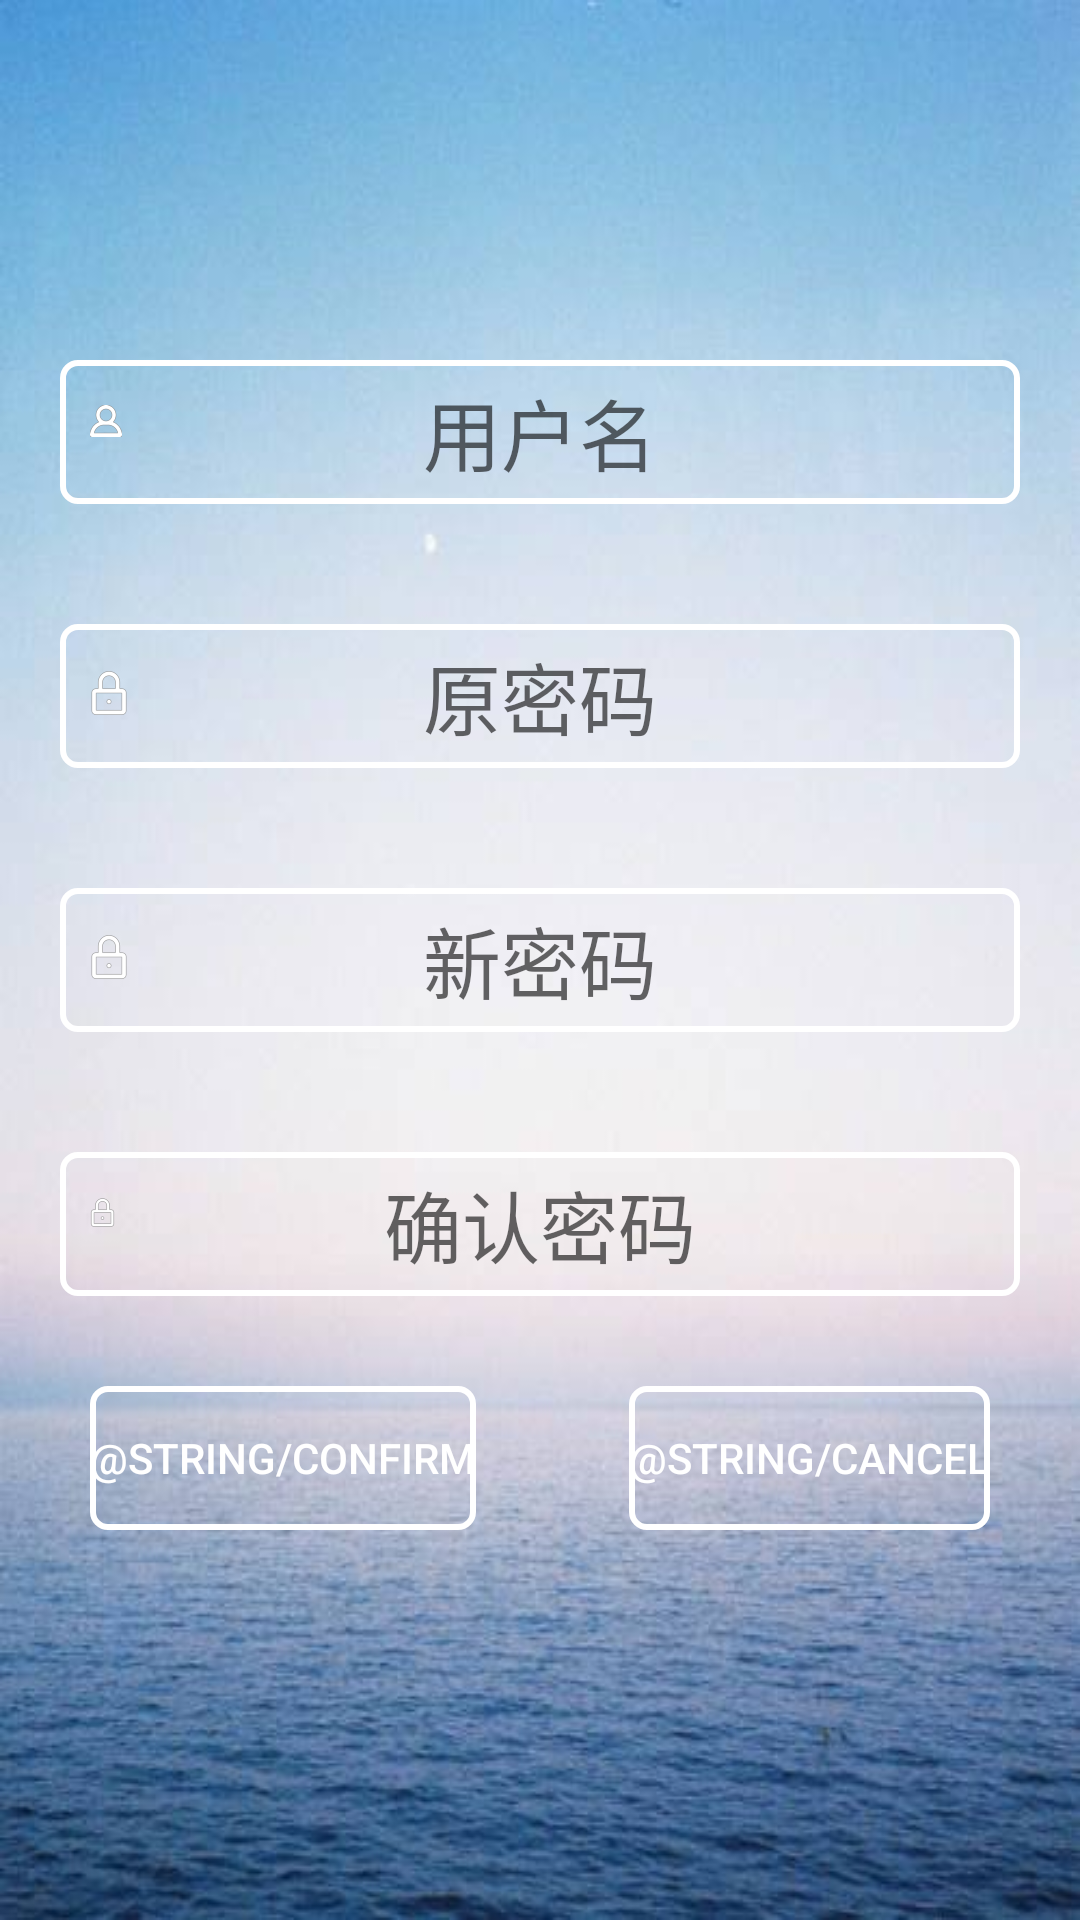

Named icons in this screenshot (1080 × 1920) and their bounding boxes, (x1, y1, x2, y2):
lock: (91, 671, 127, 715), (91, 935, 127, 979), (91, 1198, 114, 1227)
user: (90, 405, 122, 437)
